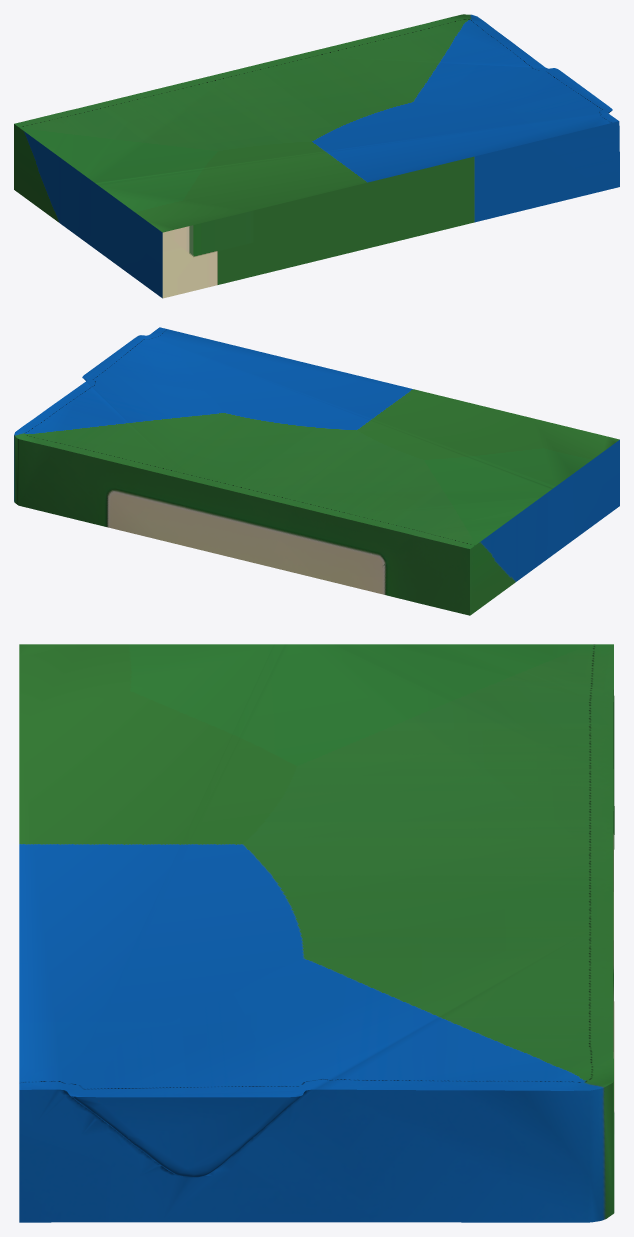
File: 12-roof-back-right.fbx
3 views of the same model, one above another, from view 1: azimuth 30°, elevation 25°; view 2: azimuth 150°, elevation 25°; view 3: azimuth 270°, elevation 25° (orthographic). The views are drawn at different scales.
Parts seen in each view (by area): view 1: roof-back-right; view 2: roof-back-right; view 3: roof-back-right.
Boxes of the visible parts, x1,y1,x2,y2 form: roof-back-right: (14, 14, 619, 298); roof-back-right: (14, 327, 619, 615); roof-back-right: (19, 644, 614, 1222).
Bounding box in the file's own units: 5382 × 729 × 2979.
1 material, 1 textured.
